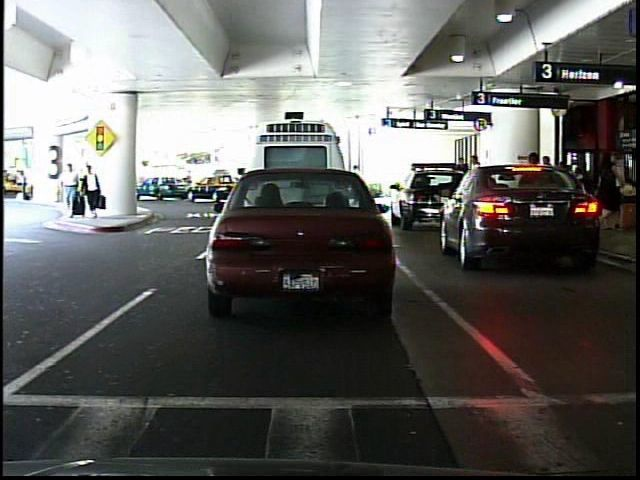person: (82, 160, 106, 222), (61, 157, 84, 218), (345, 158, 366, 202), (19, 166, 35, 204), (181, 166, 199, 195)
